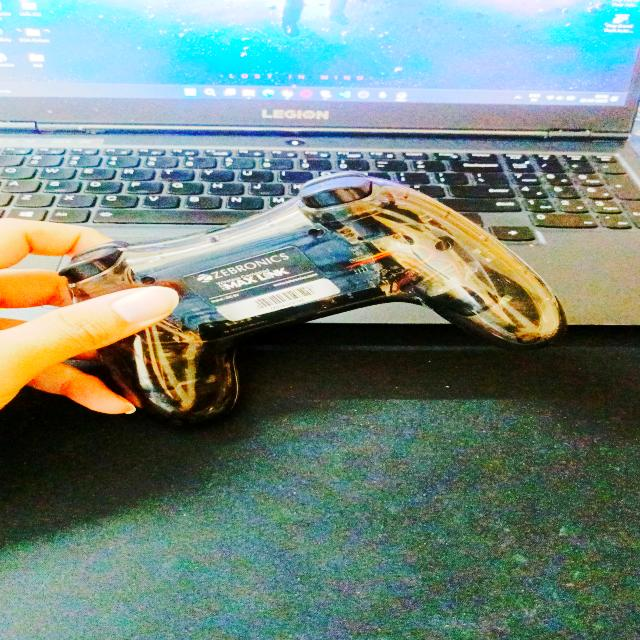gamepad: (54, 174, 567, 426)
